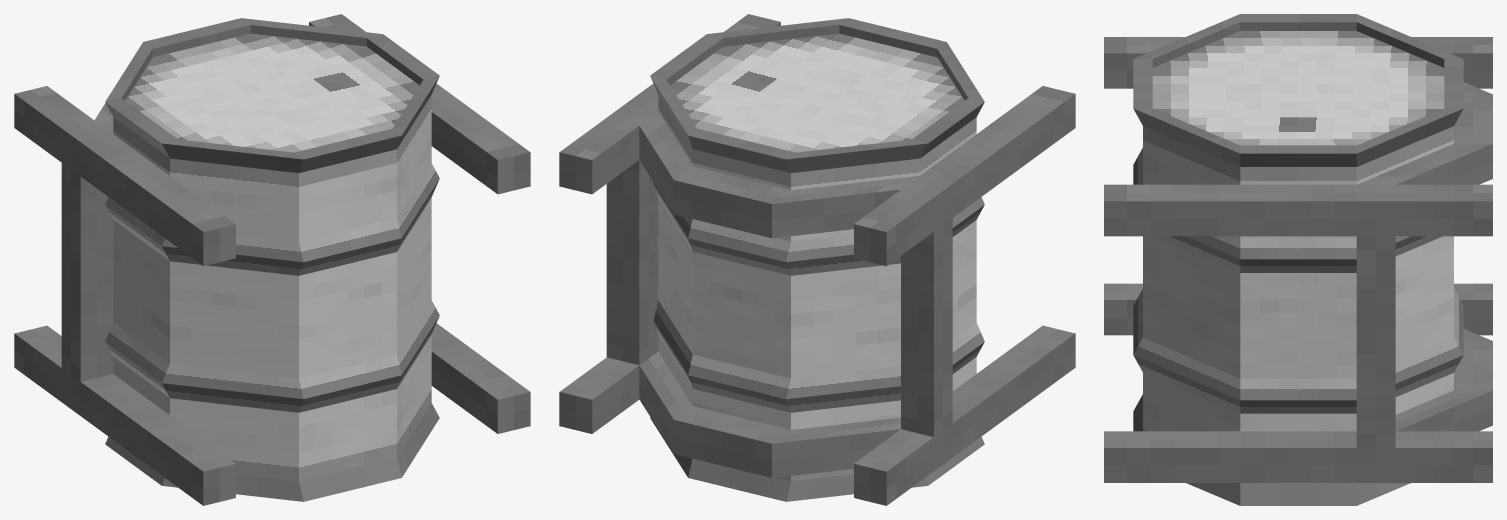
Rendered from metal_barrel_supported.obj.
The picture shows the model from 3 angles, left to right: view 1: azimuth 30°, elevation 25°; view 2: azimuth 150°, elevation 25°; view 3: azimuth 270°, elevation 25°; orthographic projection. The views are drawn at different scales.
Visible parts, largest first — view 1: Cube_Cube.001; view 2: Cube_Cube.001; view 3: Cube_Cube.001.
Part boxes in pixels (x1,y1,x2,y2): Cube_Cube.001: (14, 14, 530, 505); Cube_Cube.001: (559, 14, 1075, 505); Cube_Cube.001: (1104, 14, 1492, 505).
Size of the model in its own units: 1 by 1 by 1.
